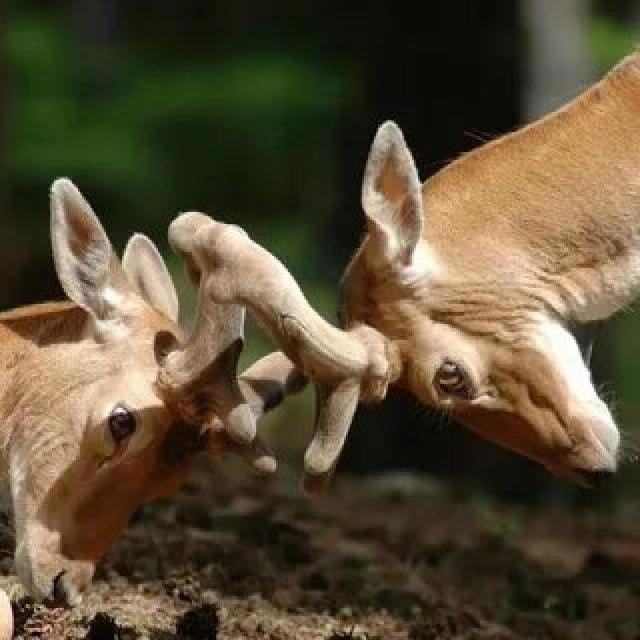deer: (252, 124, 640, 460), (0, 206, 246, 513)
